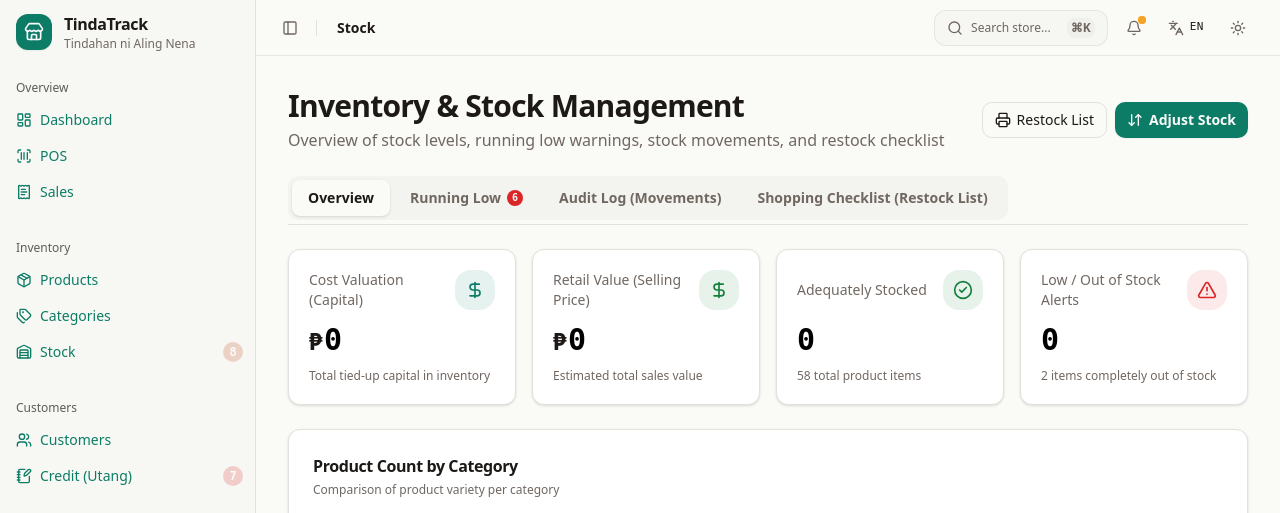
Dialog Entry Points and Adjust Stock Product Picker Tests › D2.1 & D2.2: Adjust Stock Dialog Toolbar vs Row Entry Points › opens AdjustStockDialog from /inventory toolbar with NO product
Check: the heading "Inventory & Stock Management" is shown, box [288, 85, 744, 126]
# Click toolbar button
What coordinates should you click on to do the following:
click the button "Adjust Stock"
I would click on:
 (1182, 120)
Its box is [1115, 102, 1248, 138].
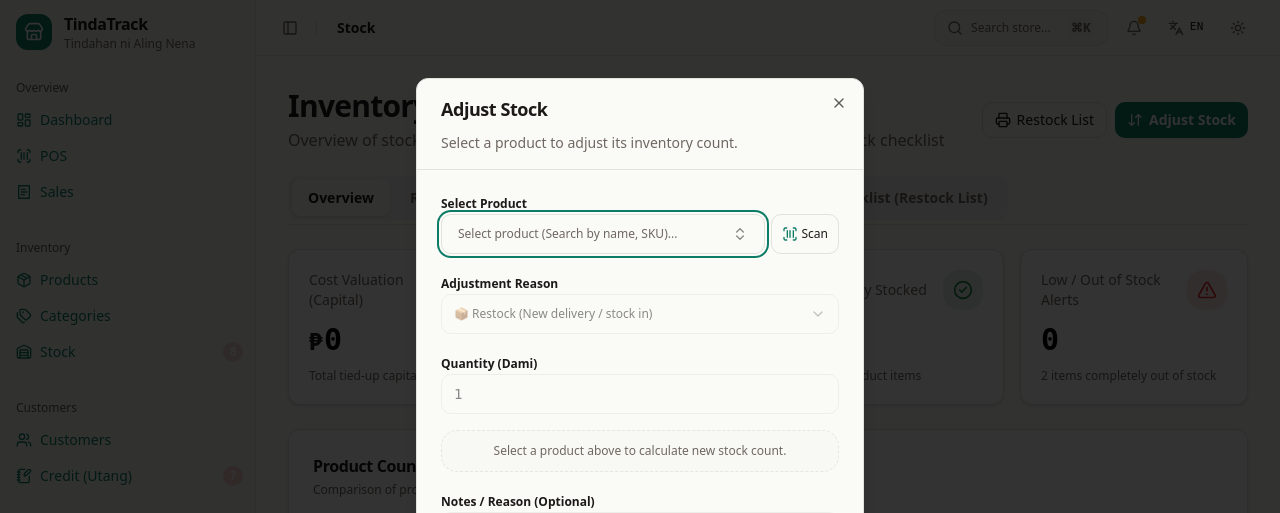
Check: the dropdown labelled "Select product (Search by name, SKU)..." is shown, box [441, 214, 764, 254]
